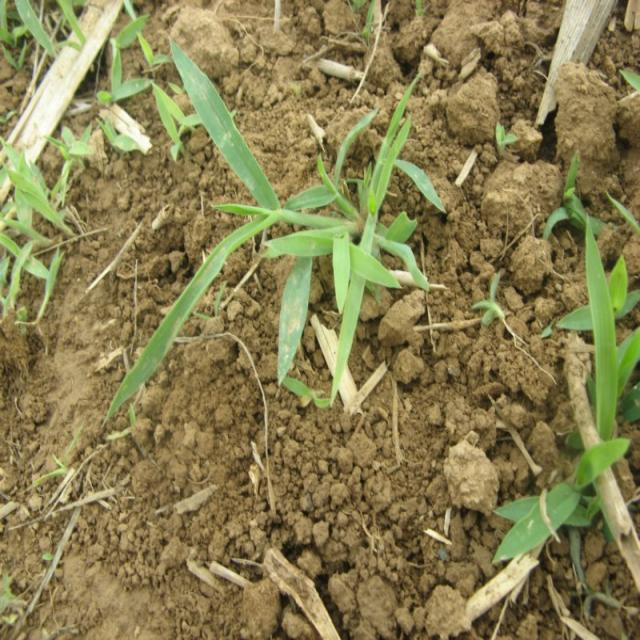bg: (108, 31, 449, 424)
